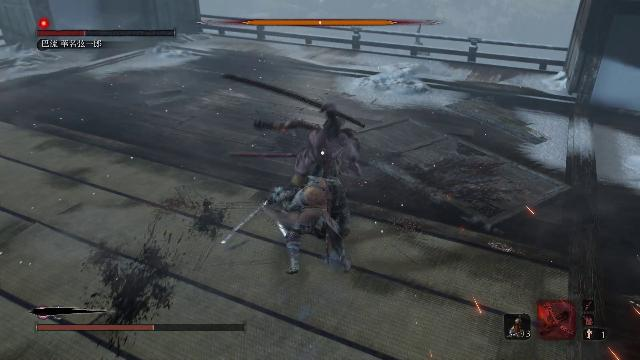sk: (260, 163, 356, 278)
